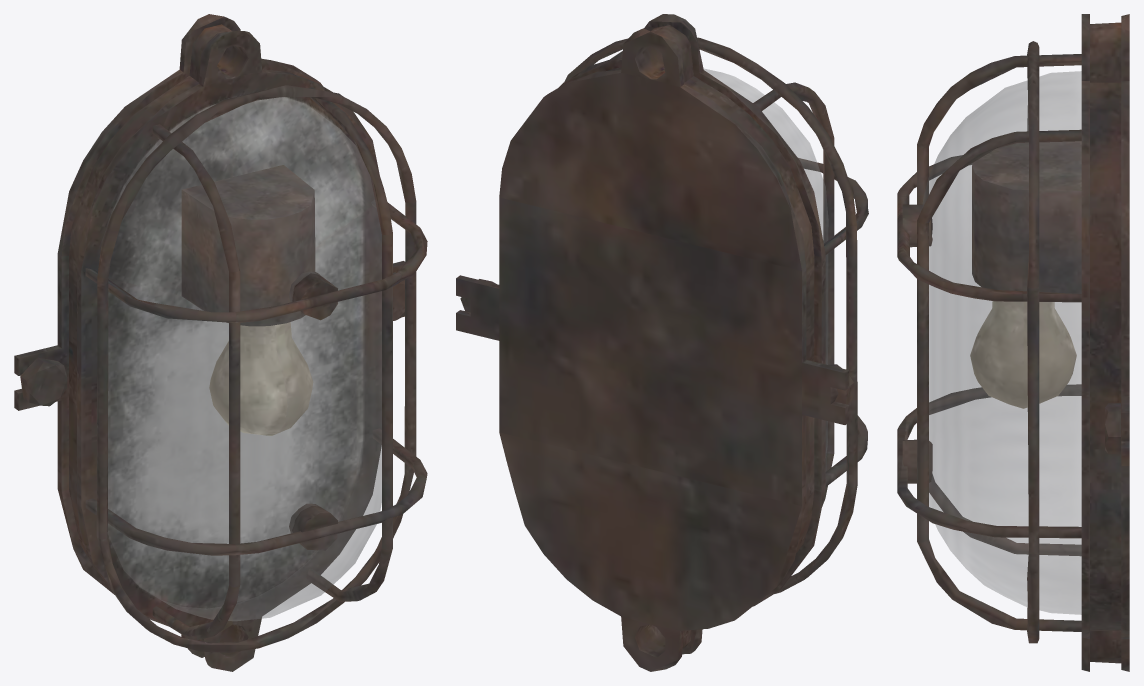
The model's file is industrial_wall_lamp.glb.
3 views of the same model, side by side, from view 1: azimuth 30°, elevation 25°; view 2: azimuth 150°, elevation 25°; view 3: azimuth 270°, elevation 25° (orthographic).
Visible parts, largest first — view 1: industrial_wall_lamp; view 2: industrial_wall_lamp; view 3: industrial_wall_lamp.
Part boxes in pixels (x1,y1,x2,y2): industrial_wall_lamp: (14,14,427,671); industrial_wall_lamp: (456,14,868,671); industrial_wall_lamp: (897,14,1129,671).
Bounding box in the file's own units: 0.2735 × 0.4299 × 0.139.
Materials: 2 (2 with a texture image).
